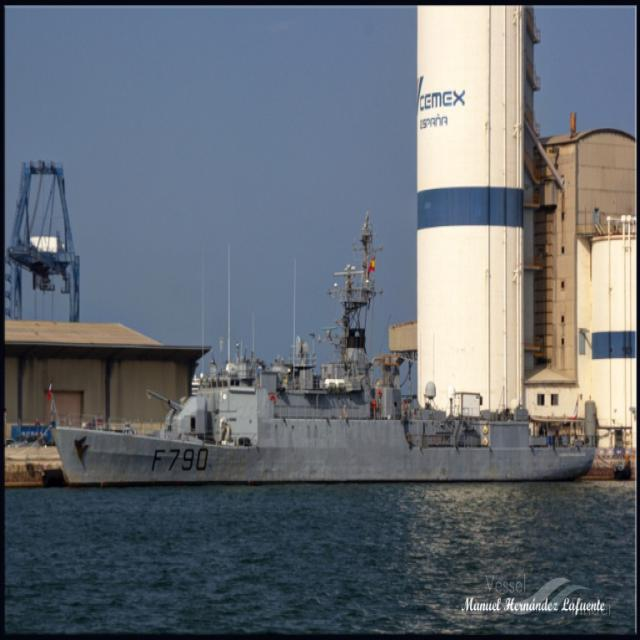Naval Ship: (48, 224, 595, 481)
